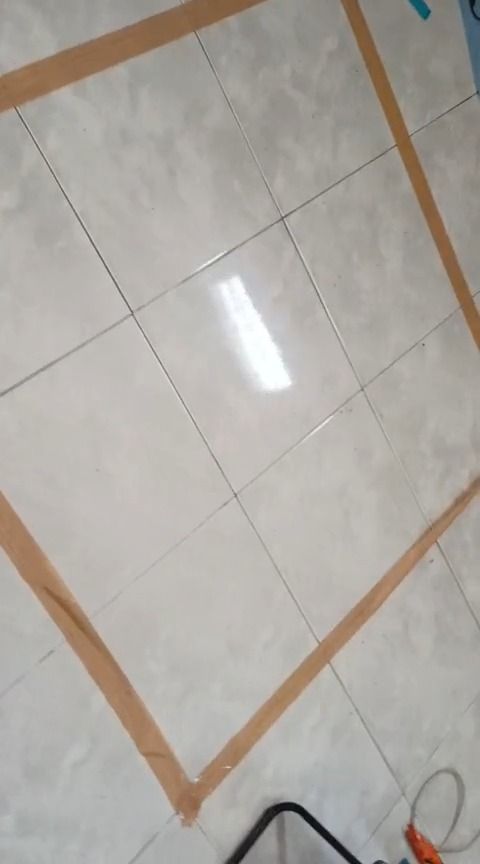floor marking: (0, 476, 479, 823), (340, 0, 479, 349), (0, 0, 265, 112)
